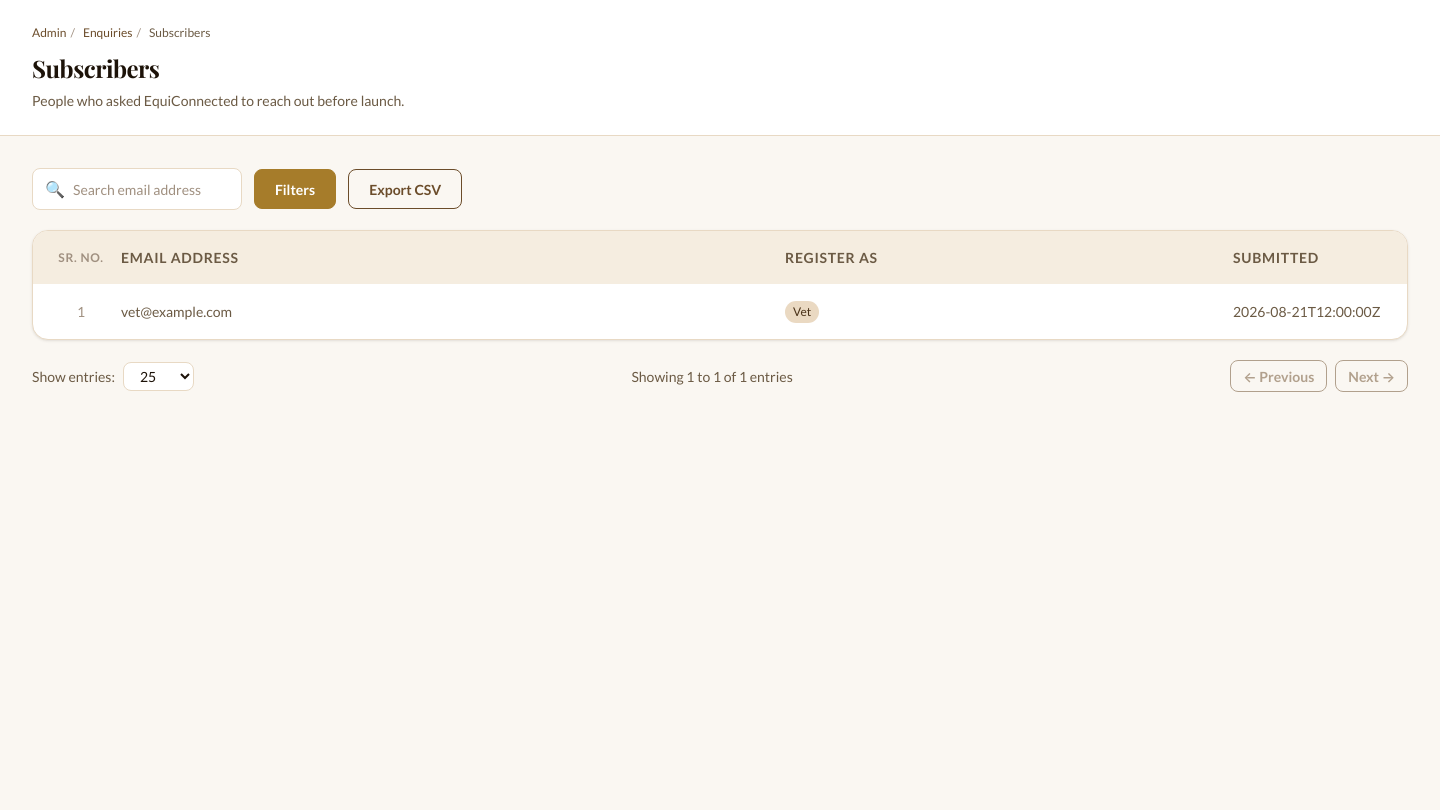
Test: SubscribersPage › hides pagination when search and type filters return no subscribers
The image size is (1440, 810).
Check: the element named "Pagination" is shown, box top-left (32, 360), bottom-right (1408, 392)
In the search field named "Search subscribers": (153, 189) top-left (65, 169), bottom-right (241, 209), type "missing"
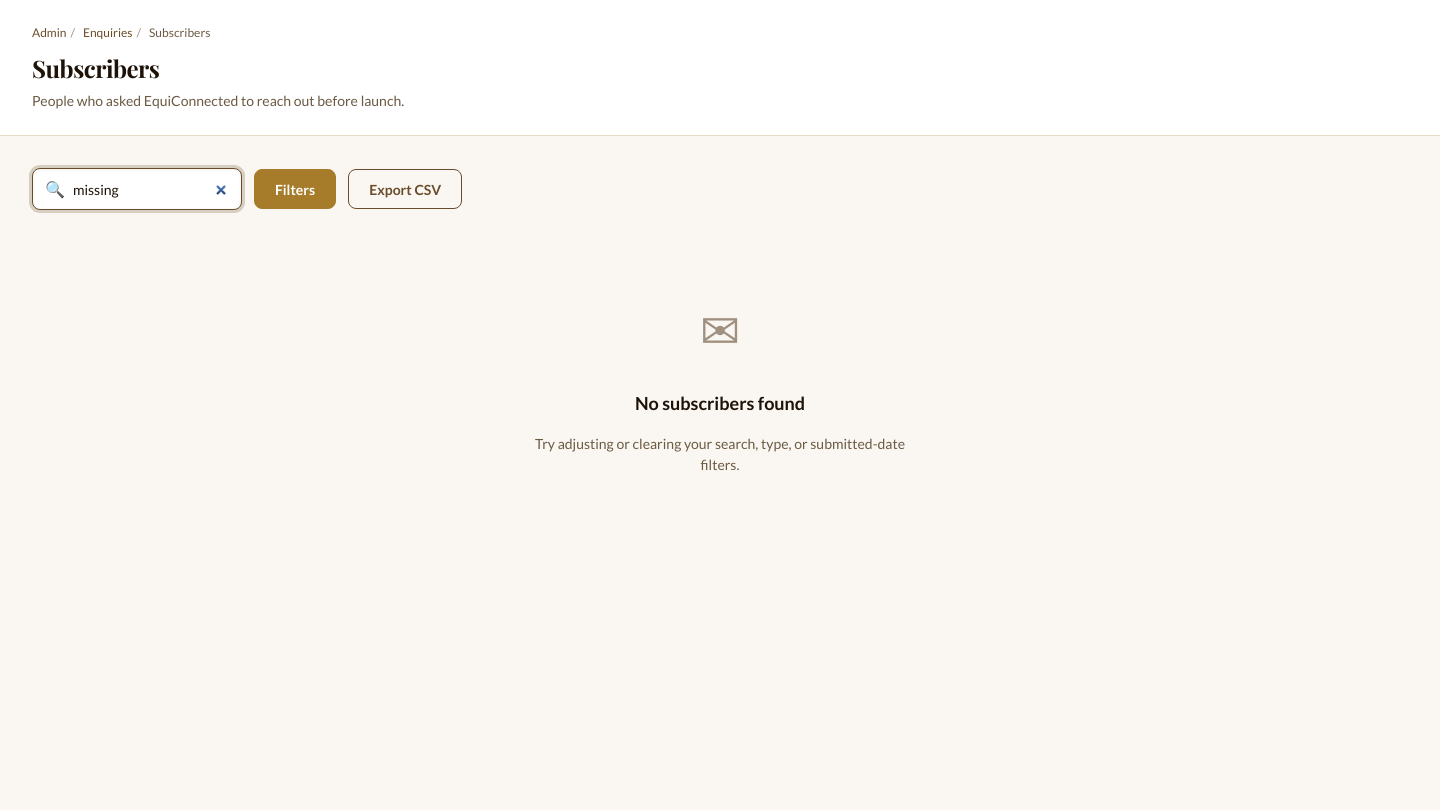
Check: the heading "No subscribers found" is shown, box top-left (635, 390), bottom-right (805, 417)
Check: the field labelled "Pagination" is gone
Clear the search field named "Search subscribers": (153, 189) top-left (65, 169), bottom-right (241, 209)
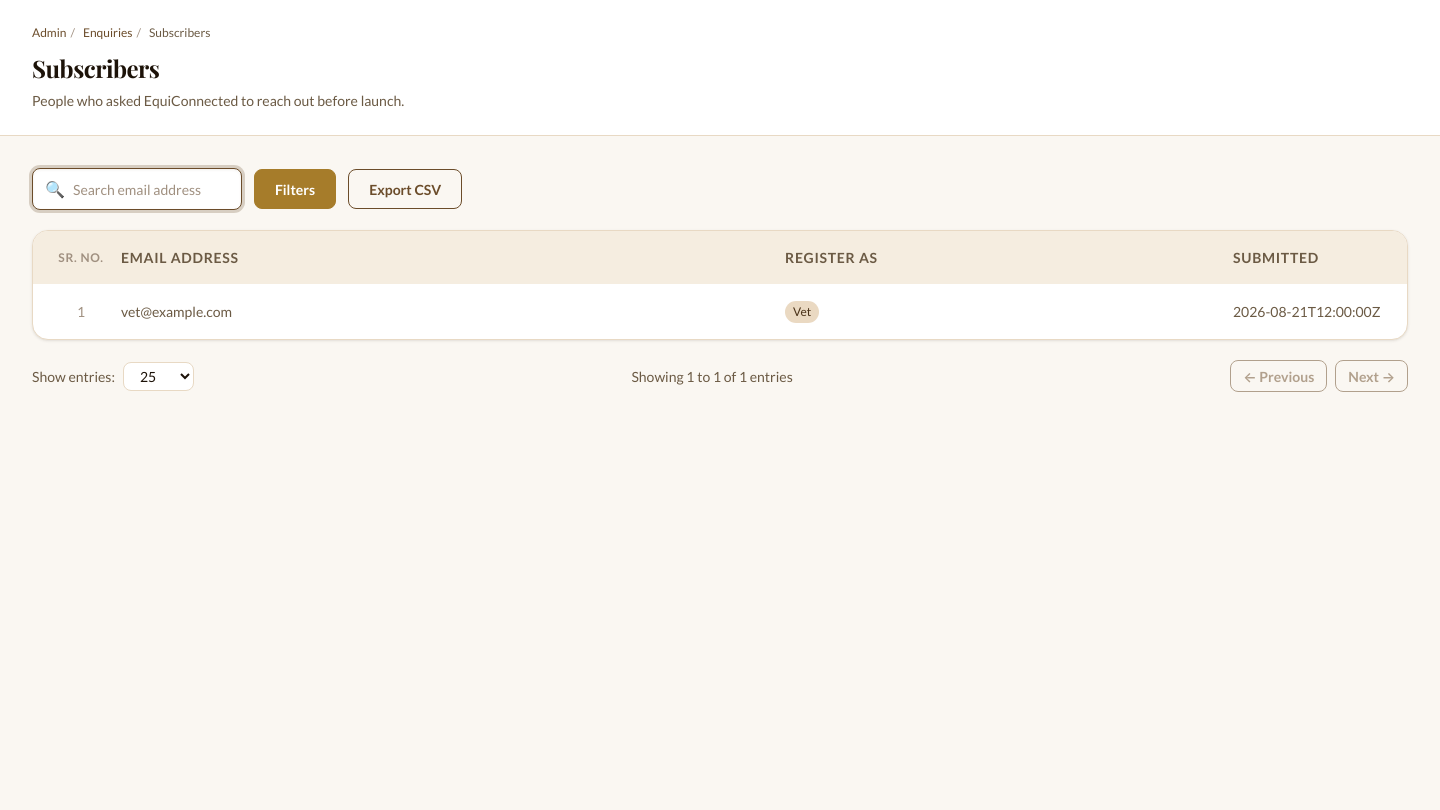
Check: the element named "Pagination" is shown, box top-left (32, 360), bottom-right (1408, 392)
Click the button "Filters": (295, 189) top-left (254, 169), bottom-right (336, 209)
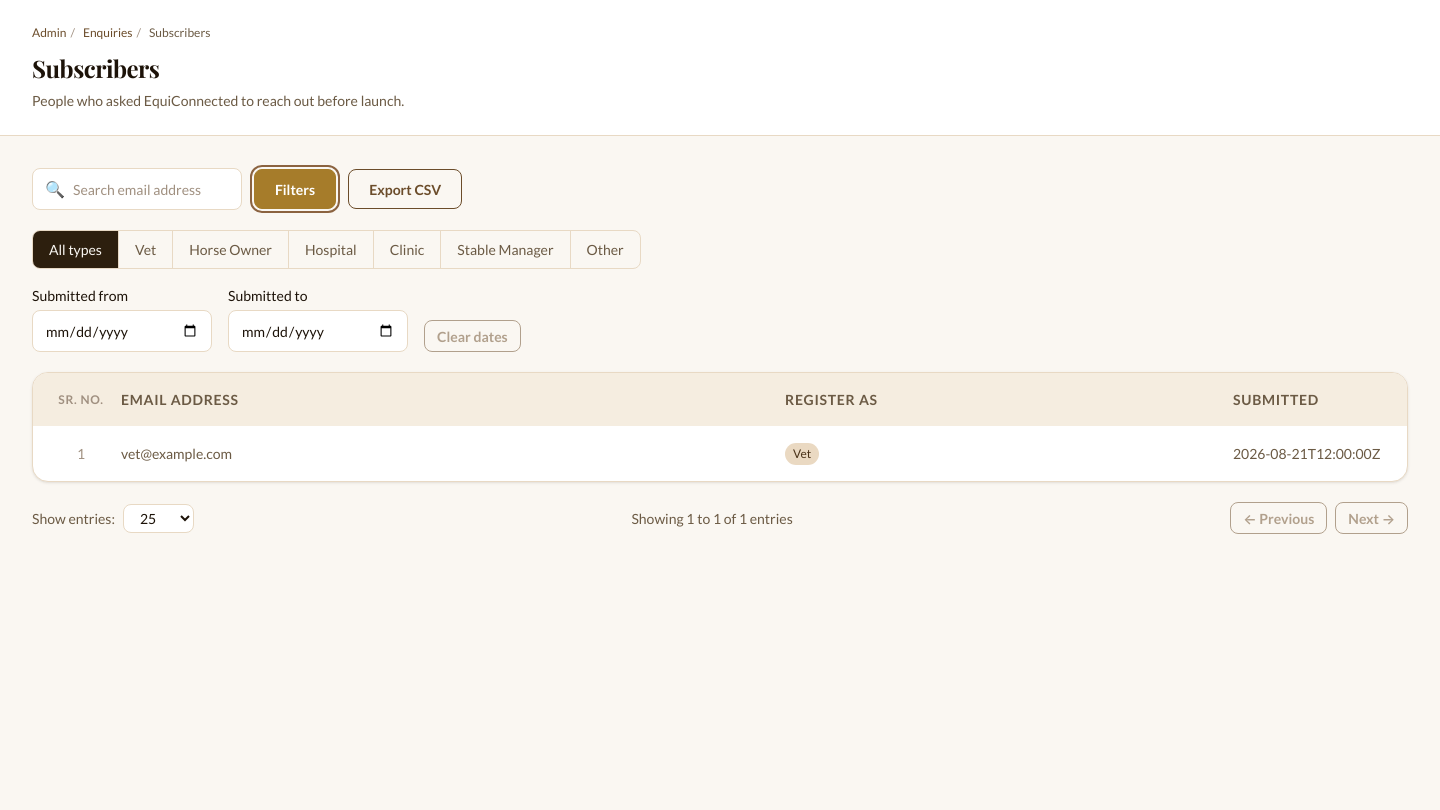
Click the button "Vet": (146, 250) top-left (119, 231), bottom-right (173, 268)
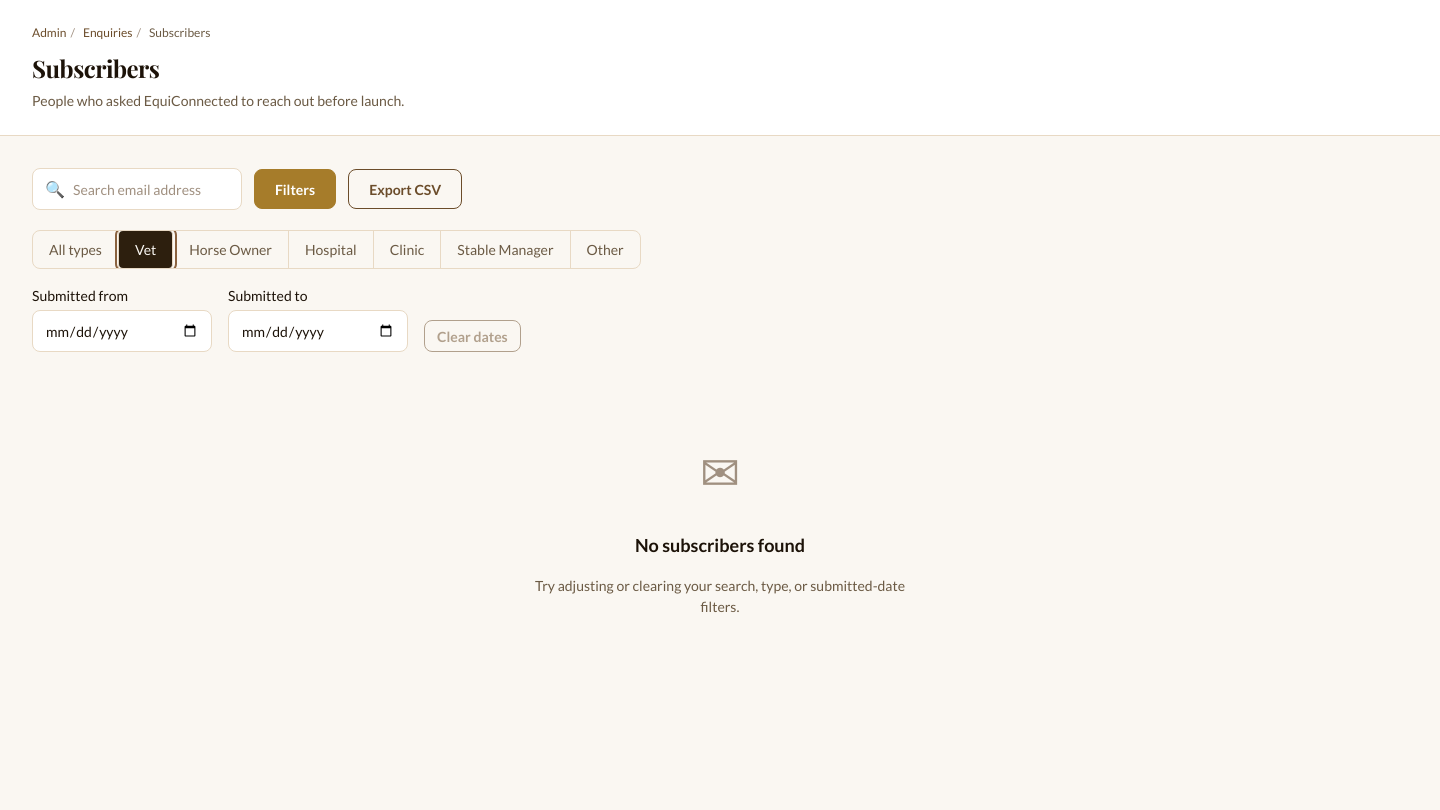
Check: the heading "No subscribers found" is shown, box top-left (635, 532), bottom-right (805, 559)
Check: the field labelled "Pagination" is gone
